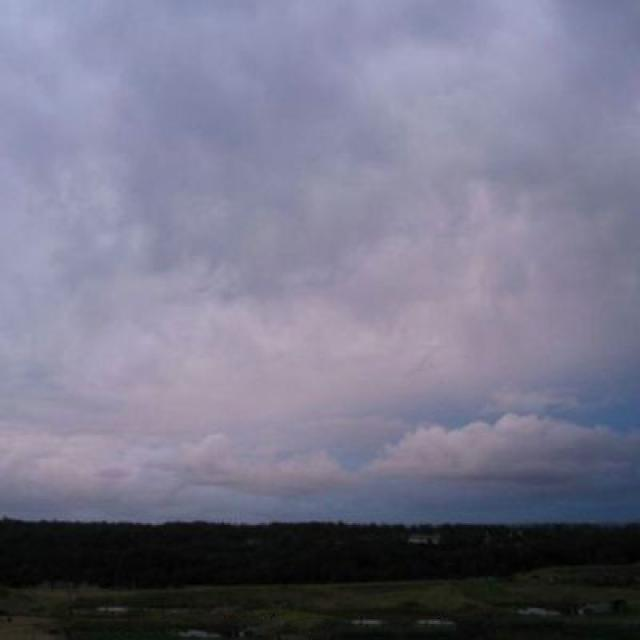As: (1, 86, 640, 504)
